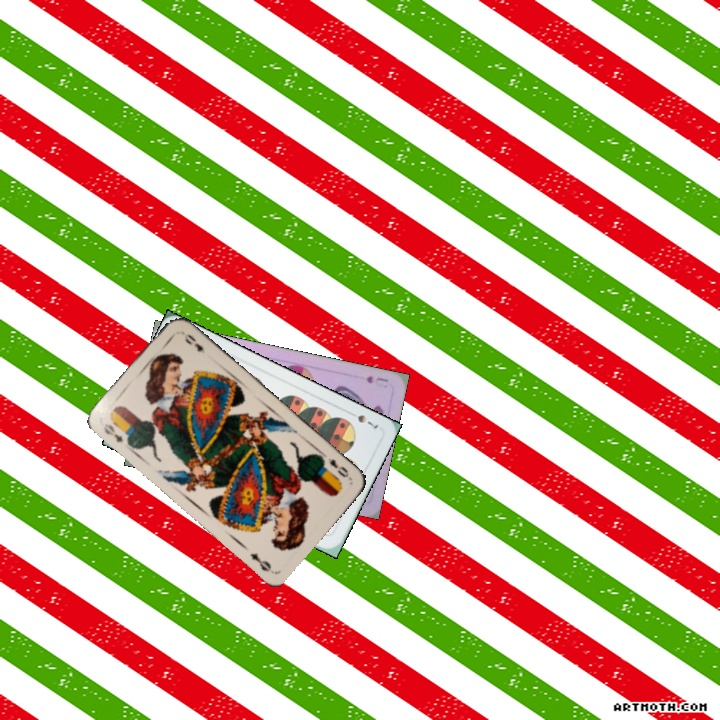EO: (324, 454, 351, 480), (100, 419, 125, 445)
S7: (344, 407, 381, 431)
SU: (362, 372, 391, 389)
